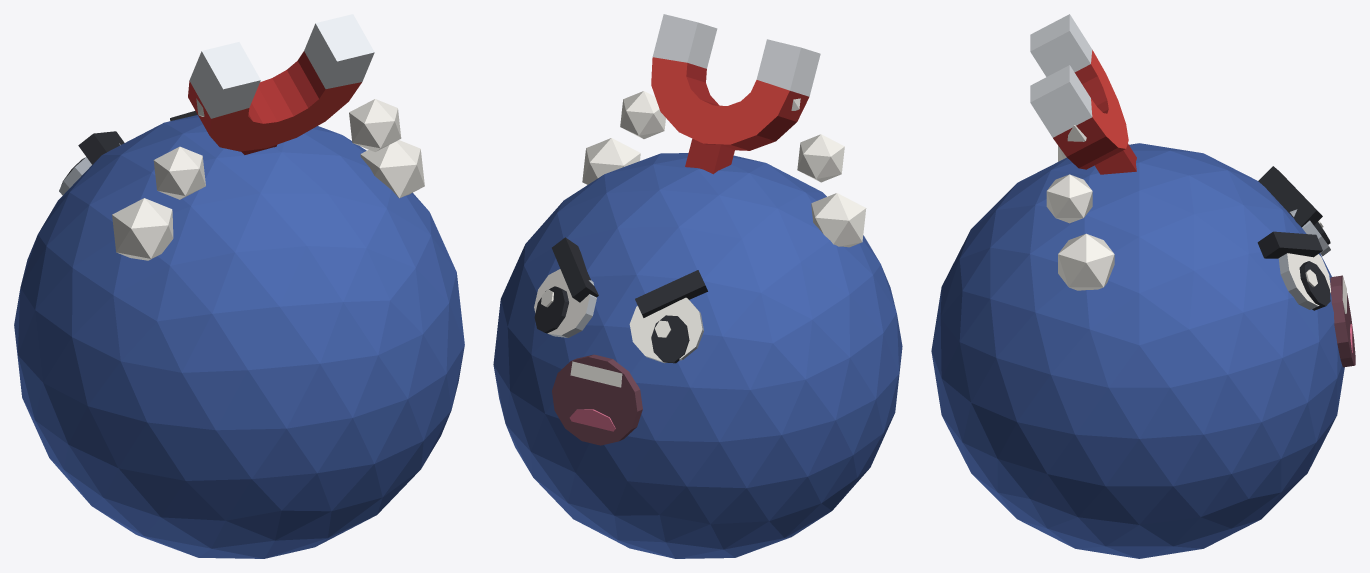
The model's file is CH_Miknato_T5_Eat.fbx.
3 renders of one model, left to right at view 1: azimuth 30°, elevation 25°; view 2: azimuth 150°, elevation 25°; view 3: azimuth 270°, elevation 25°, orthographic. The views are drawn at different scales.
Parts seen in each view (by area): view 1: CH_Miknato_T5_Eat; view 2: CH_Miknato_T5_Eat; view 3: CH_Miknato_T5_Eat.
Part boxes in pixels (<box>): CH_Miknato_T5_Eat: <box>14,14,464,558</box>; CH_Miknato_T5_Eat: <box>493,14,902,558</box>; CH_Miknato_T5_Eat: <box>931,14,1355,558</box>.
Bounding box in the file's own units: 1 × 1.3 × 1.02.
